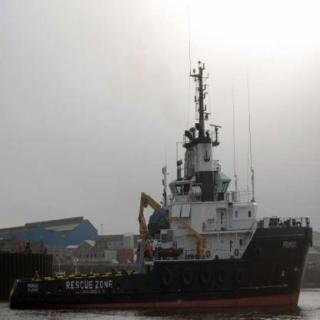Tug Boat: (8, 53, 320, 307)
